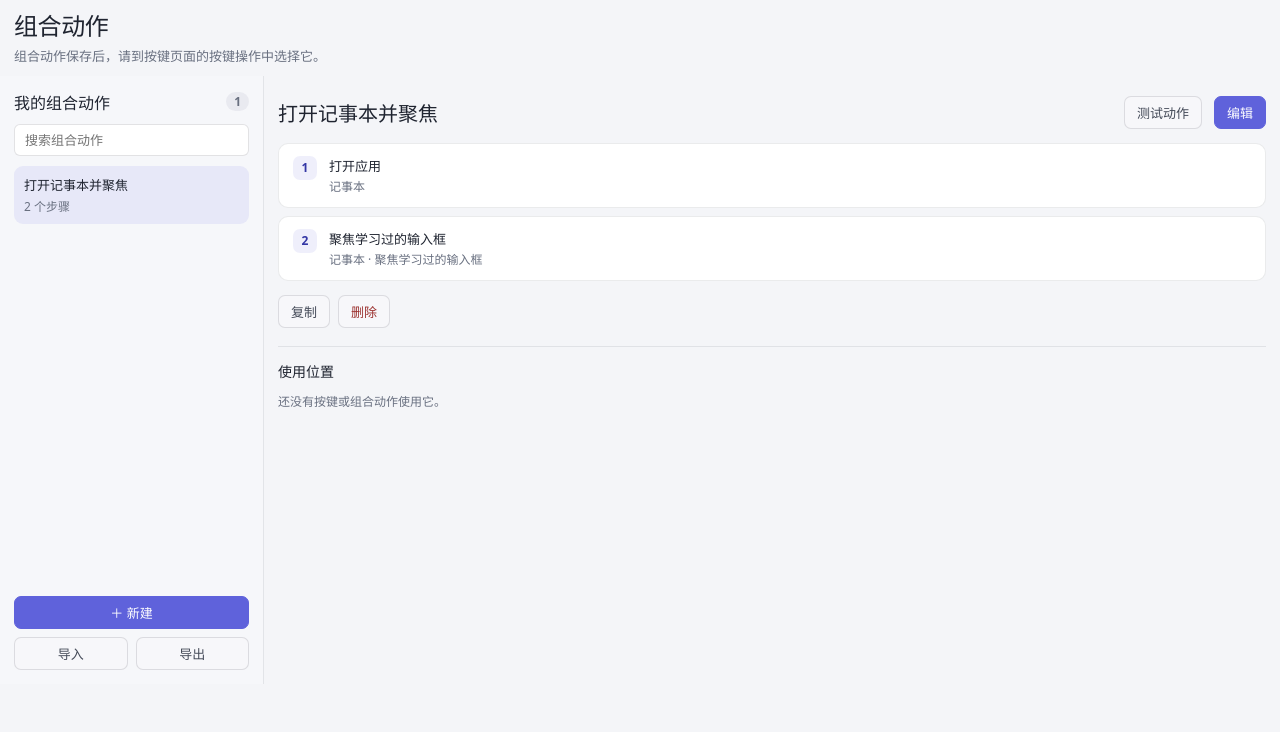
Test: 组合动作页 · 库浏览 › 没有引用时确认弹窗明说没有影响
Click the button "删除": [364, 311] box 338,295 -> 390,328
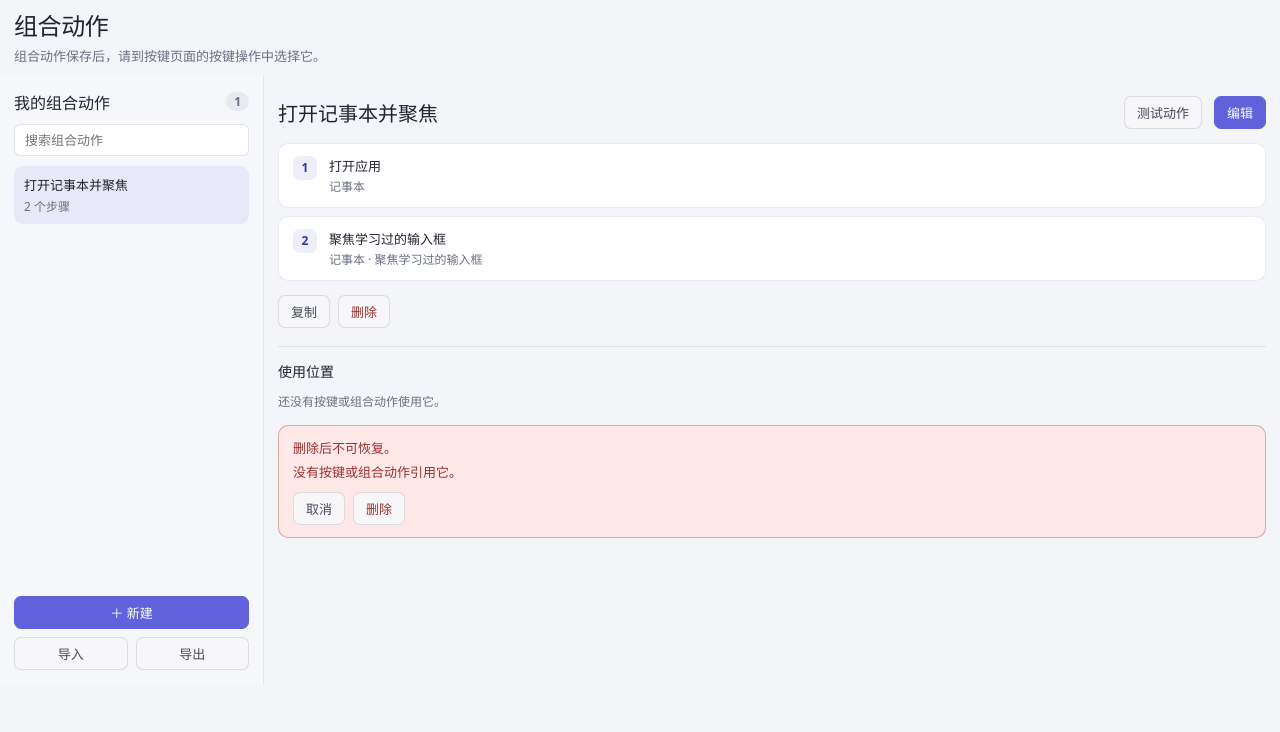
Expected: the text "没有按键或组合动作引用它" is shown, 293,463 -> 462,481
